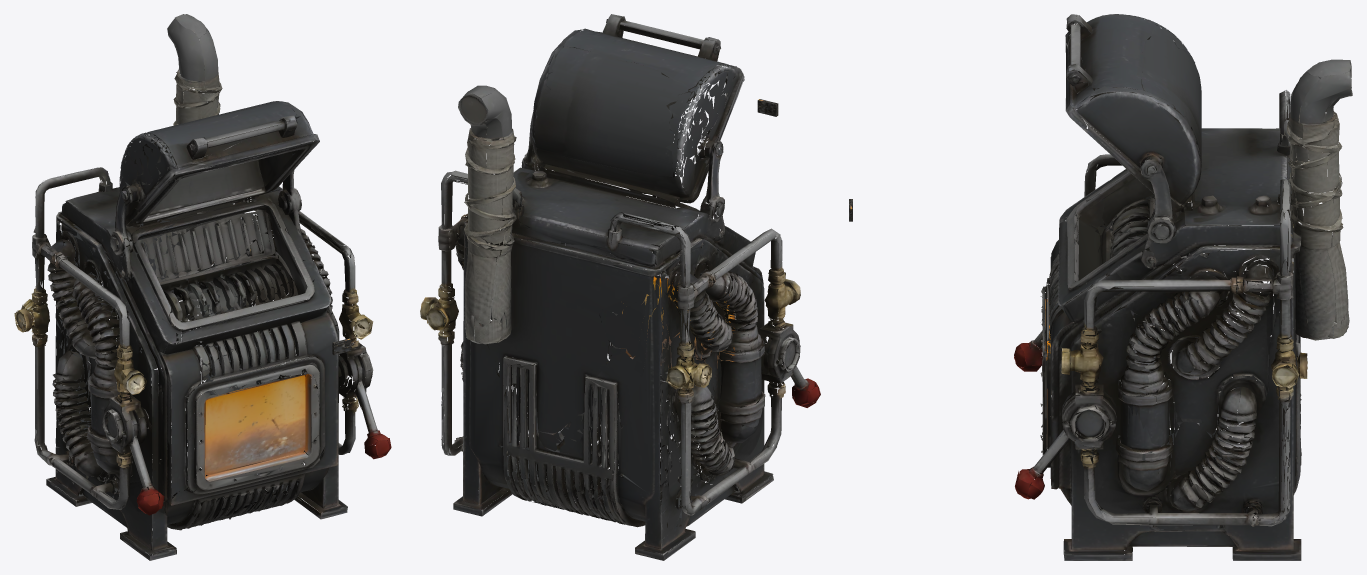
Rendered from chen_shredder_furnace_hopper.glb.
3 renders of one model, left to right at view 1: azimuth 30°, elevation 25°; view 2: azimuth 150°, elevation 25°; view 3: azimuth 270°, elevation 25°, orthographic. The views are drawn at different scales.
Visible parts, largest first — view 1: node_0; view 2: node_0; view 3: node_0.
Boxes of the visible parts, box(x1,y1,x2,y2) form: node_0: box(14, 14, 391, 560); node_0: box(420, 14, 820, 560); node_0: box(1014, 14, 1352, 560).
Size of the model in its own units: 0.6511 by 0.9832 by 0.9405.
Materials: 1 (1 with a texture image).
